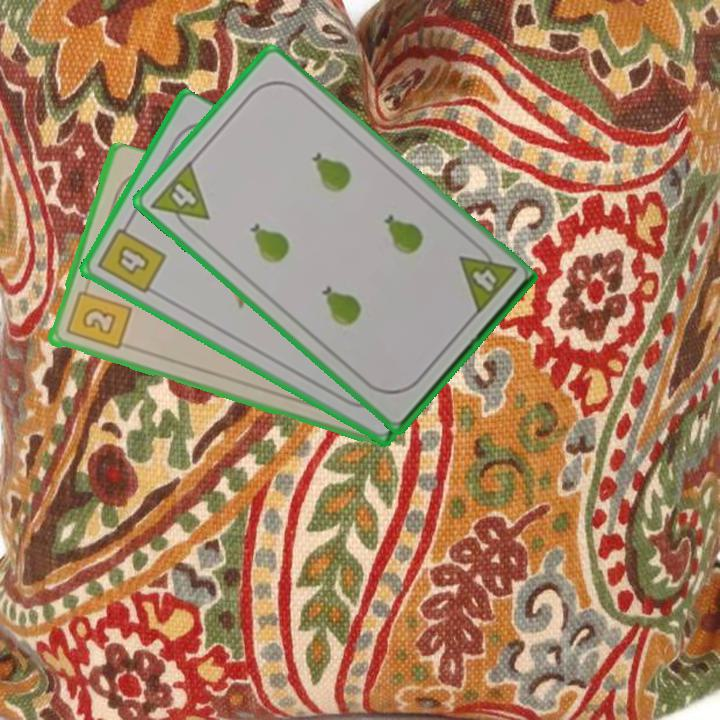2b: (62, 279, 133, 353)
4b: (94, 217, 170, 297)
4p: (147, 158, 212, 238), (455, 238, 519, 318)
